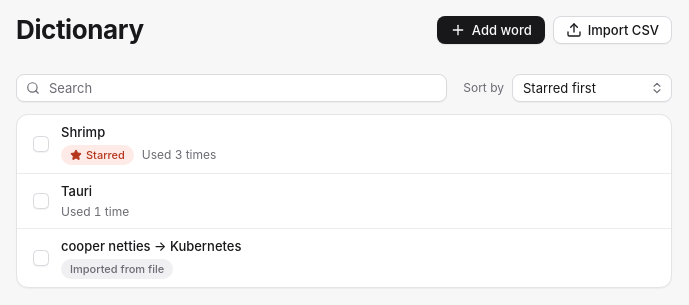
Scenario: DictionaryPage › lists entries with their markers and filters them by search
Expected: the text "Shrimp" is shown, left=61, top=124, right=105, bottom=140
Expected: the text "Starred" is shown, left=61, top=145, right=134, bottom=165
Step 1. Type "COOPER" into the search field named "Search dictionary" → {"x": 232, "y": 88}, box left=16, top=74, right=447, bottom=102
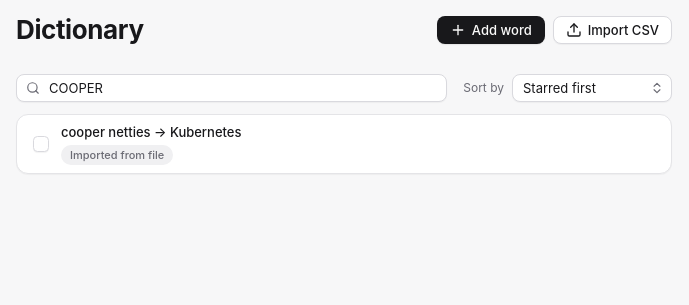
Expected: the text "cooper netties → Kubernetes" is shown, left=61, top=124, right=242, bottom=140
Expected: the text "Shrimp" is gone
